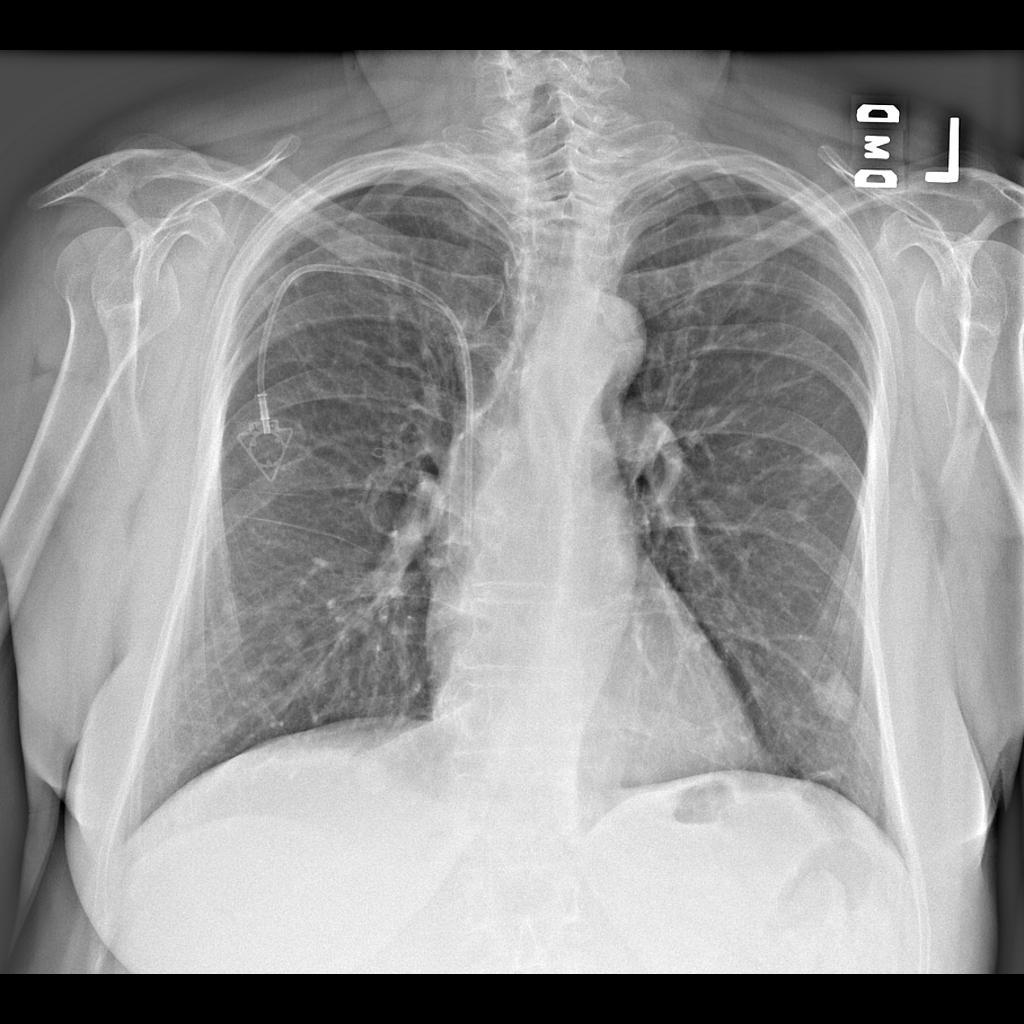Nodule: (801, 664, 857, 733), (795, 448, 851, 495), (786, 500, 816, 530)
